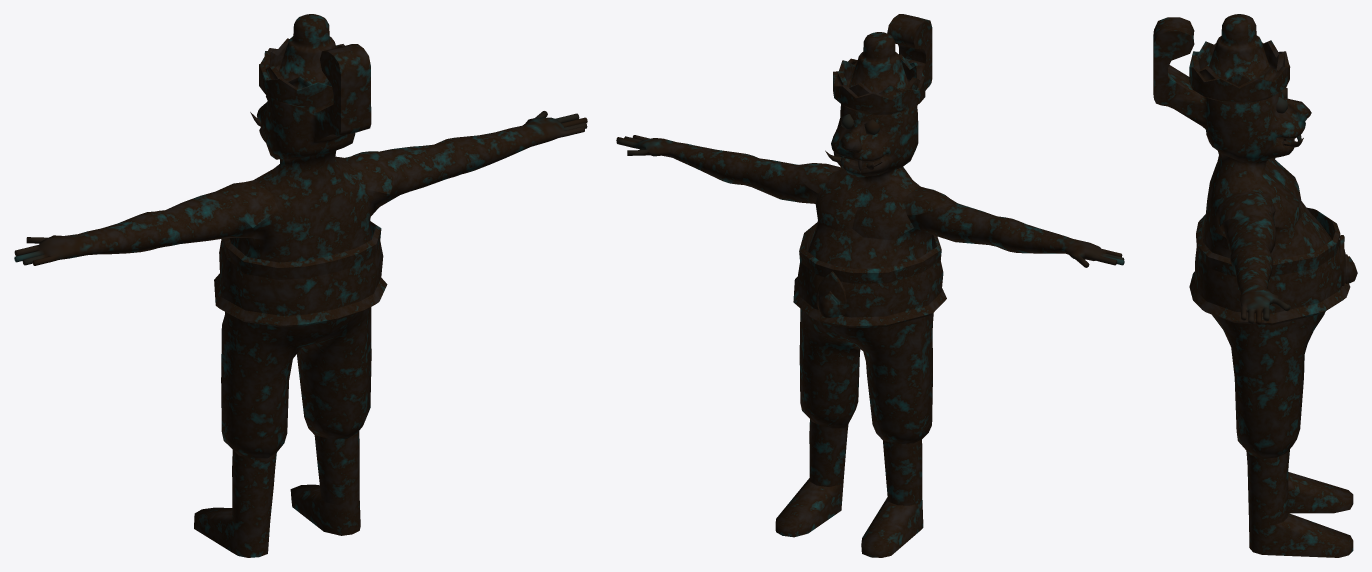
File: last boss.fbx
3 renders of one model, left to right at view 1: azimuth 30°, elevation 25°; view 2: azimuth 150°, elevation 25°; view 3: azimuth 270°, elevation 25°, orthographic. The views are drawn at different scales.
Visible parts, largest first — view 1: Plane; view 2: Plane; view 3: Plane.
Part boxes in pixels (left/top/right/bottom): Plane: left=14, top=14, right=587, bottom=557; Plane: left=616, top=14, right=1124, bottom=557; Plane: left=1153, top=14, right=1357, bottom=557.
Bounding box in the file's own units: 1297 × 1159 × 421.
Materials: 1 (1 with a texture image).
